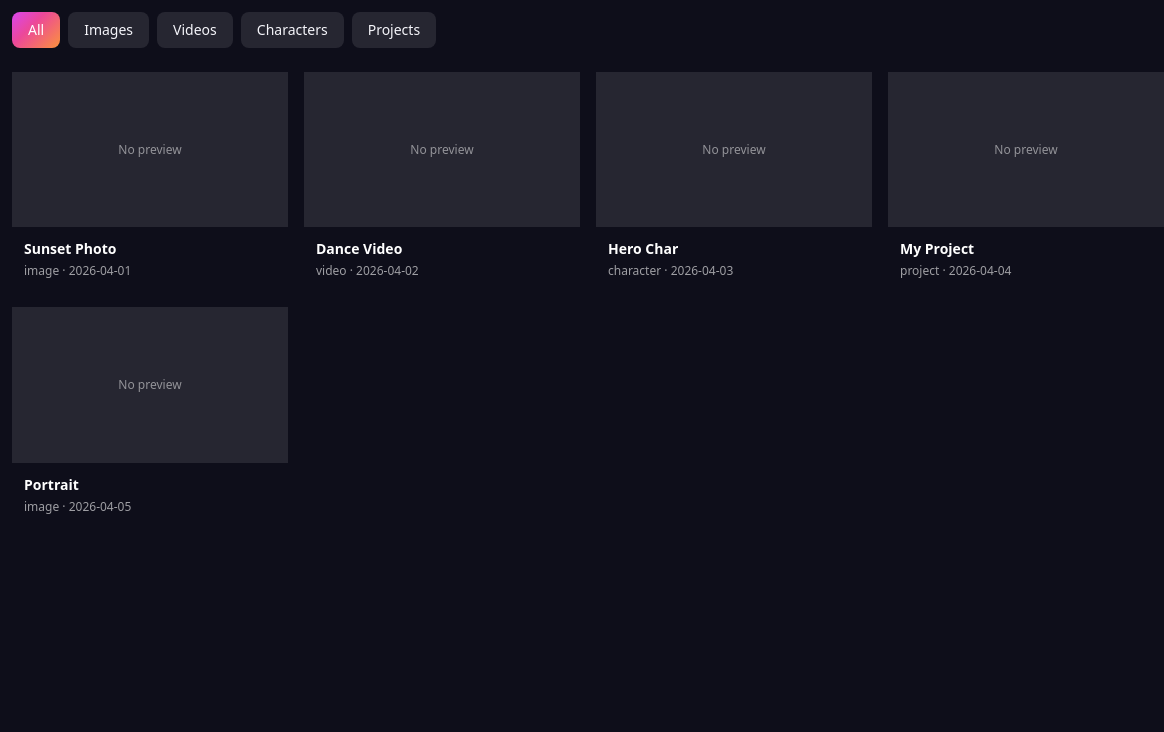
it: LibraryTabs › filters to only characters when Characters tab clicked
The image size is (1164, 732).
What coordinates should you click on to do the following:
click the tab "Characters"
I would click on:
 (292, 30)
Its box is top-left (241, 12), bottom-right (344, 48).
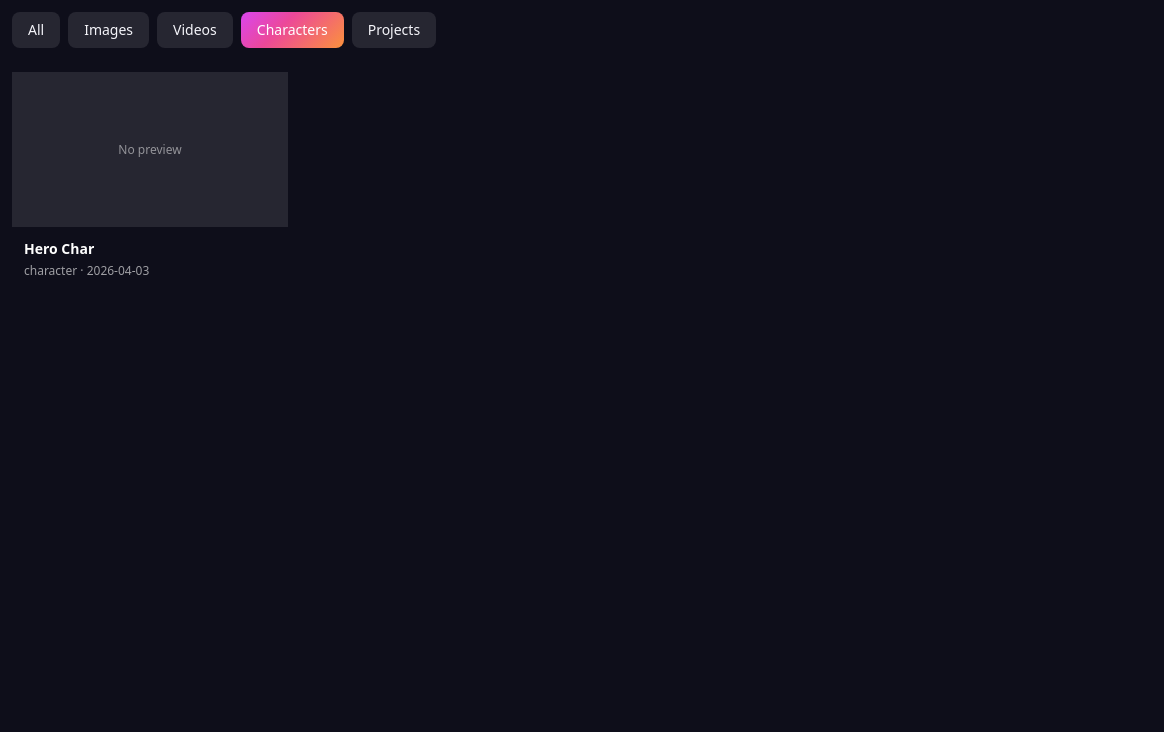
Expected: the text "Hero Char" is shown, top-left (24, 239), bottom-right (94, 258)
Now the link "Sunset Photo" is gone
